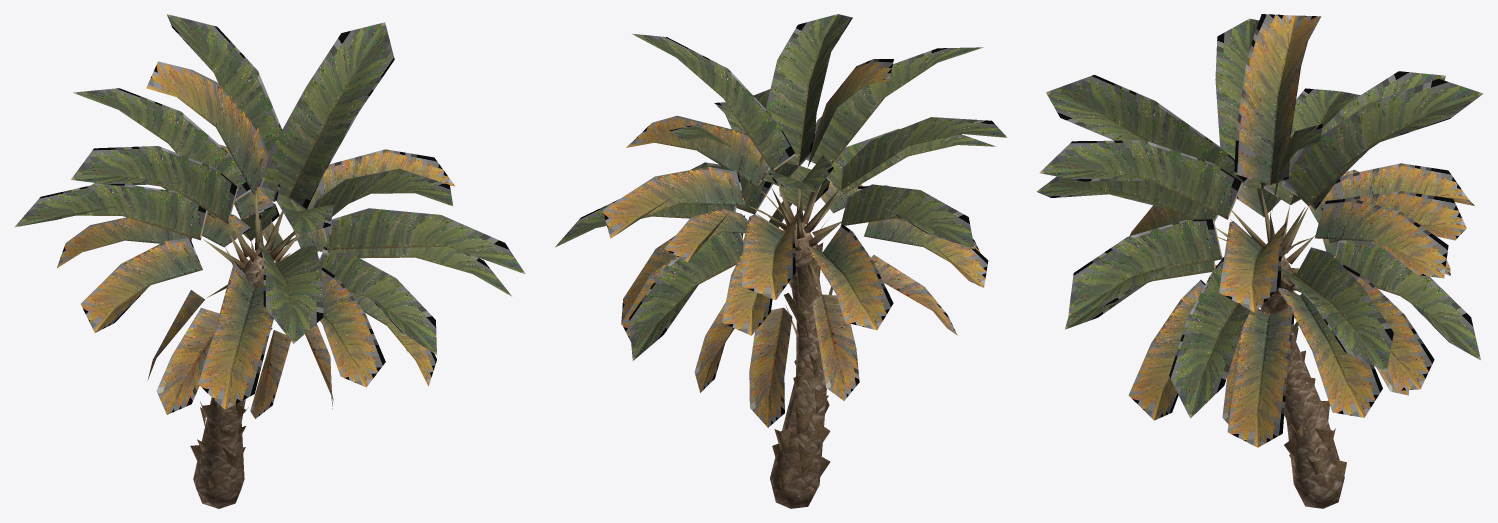
The model's file is arid-palm-short-b-mid.glb.
3 renders of one model, left to right at view 1: azimuth 30°, elevation 25°; view 2: azimuth 150°, elevation 25°; view 3: azimuth 270°, elevation 25°, orthographic. The views are drawn at different scales.
Parts seen in each view (by area): view 1: palm_tree_short_b_LOD0; view 2: palm_tree_short_b_LOD0; view 3: palm_tree_short_b_LOD0.
Part boxes in pixels (x1,y1,x2,y2): palm_tree_short_b_LOD0: (14,14,525,508); palm_tree_short_b_LOD0: (555,14,1007,508); palm_tree_short_b_LOD0: (1036,14,1483,508).
Bounding box in the file's own units: 6.53 × 6.76 × 5.93.
Materials: 1 (1 with a texture image).
